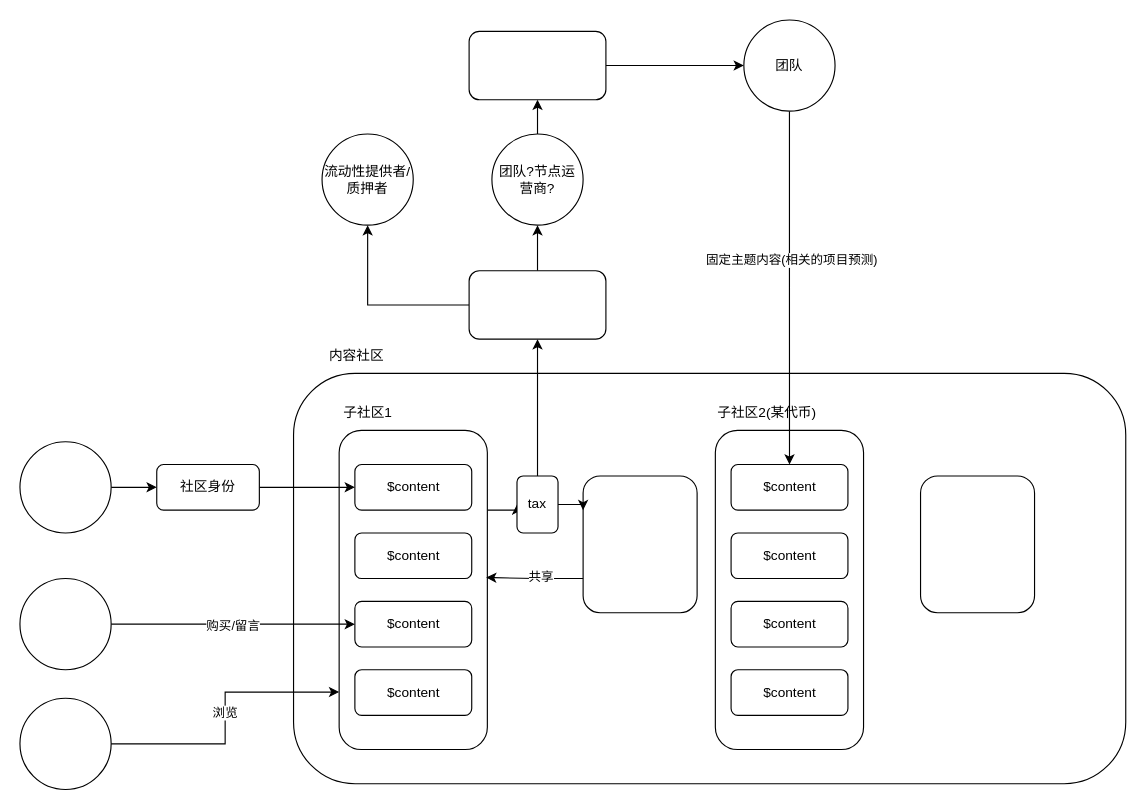
Some shapes in this 1146 by 809 pixel diagram are drawn without their labels. Here are the shapes that lost their labels. From the top down, the centre of each, then its label:
(x=537, y=65): api
(x=537, y=304): 项目资金池
(x=65, y=487): 创作者
(x=639, y=544): 社区资金池1
(x=977, y=544): 社区资金池2
(x=65, y=623): 社区成员
(x=65, y=743): 普通用户
